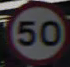Speed limit: (5, 4, 63, 56)
